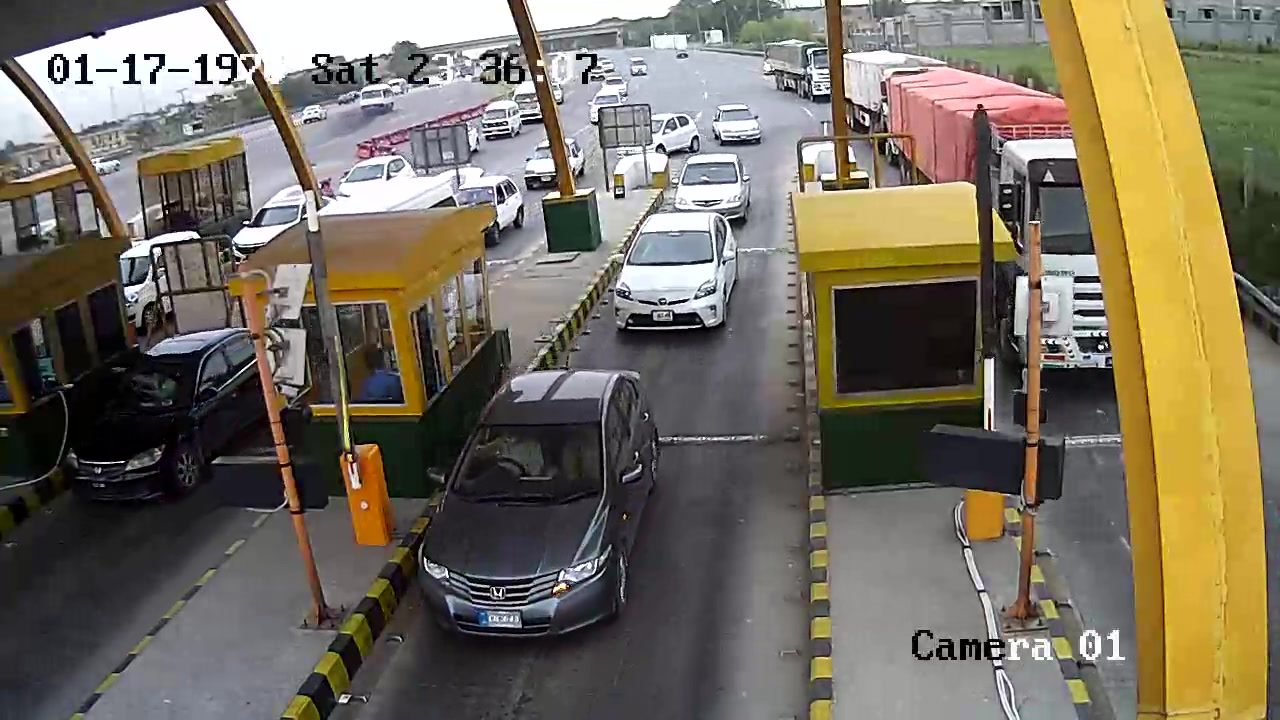F1: (417, 357, 668, 650)
